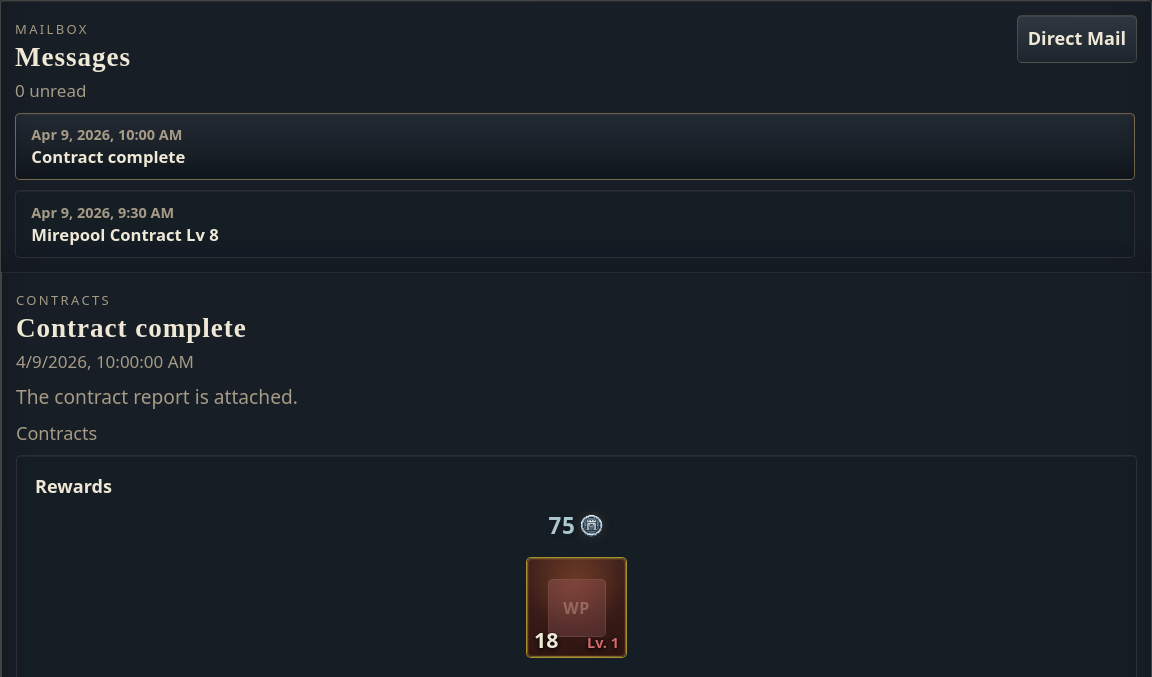
Test: messages panel › keeps the current message visible while the next detail loads
The width and height of the screenshot is (1152, 677).
Expected: the text "The contract report is attached." is shown, [16, 384, 298, 410]
Click the button "Apr 9, 2026, 9:30 AM Mirepool Contract Lv 8" at [103, 212], box [15, 190, 1135, 258]
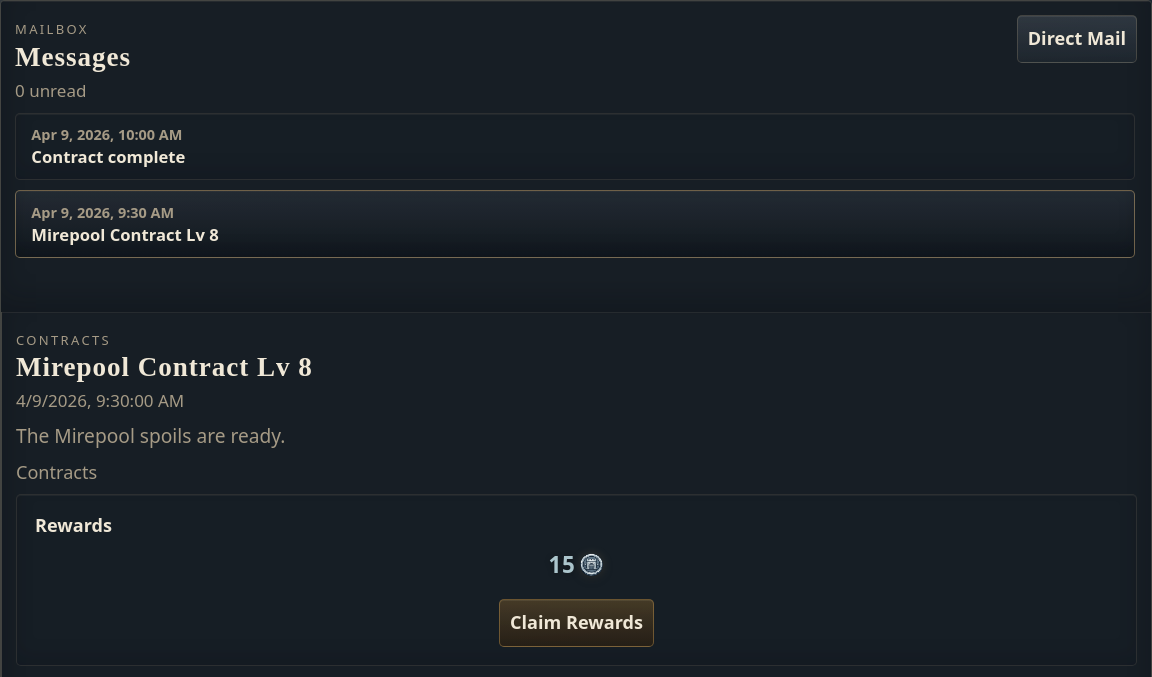
Expected: the text "The Mirepool spoils are ready." is shown, [16, 423, 286, 449]
